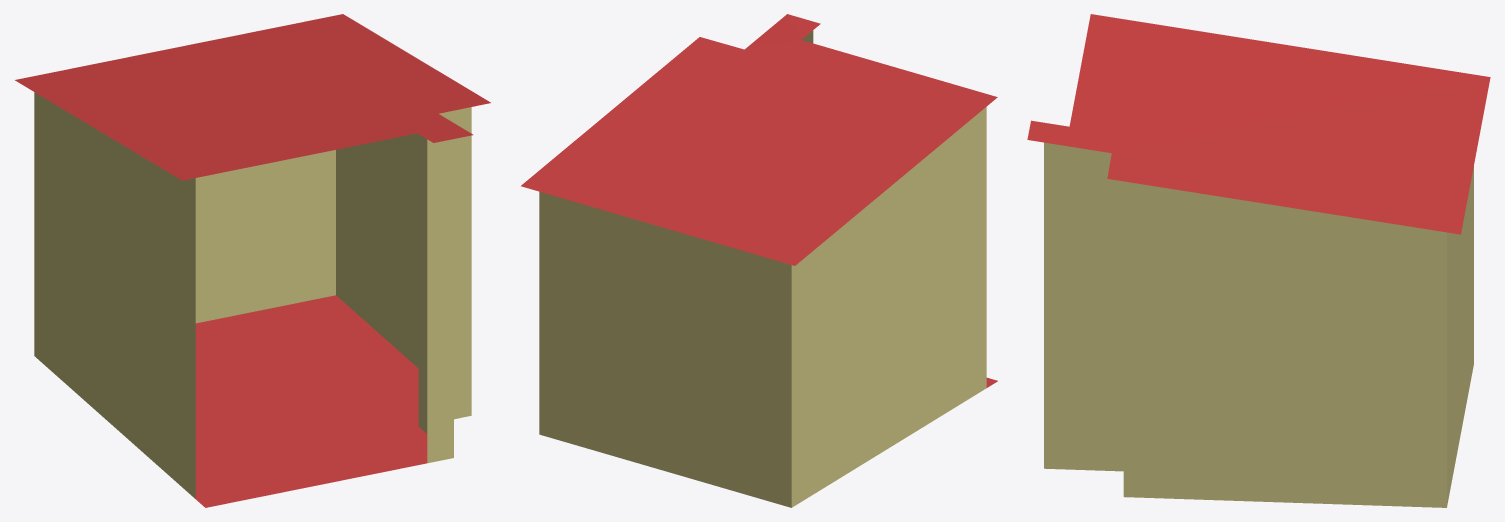
The picture shows the model from 3 angles, left to right: view 1: azimuth 30°, elevation 25°; view 2: azimuth 150°, elevation 25°; view 3: azimuth 270°, elevation 25°; orthographic projection. The views are drawn at different scales.
Bounding box in the file's own units: 6.61 × 7.57 × 6.04.
